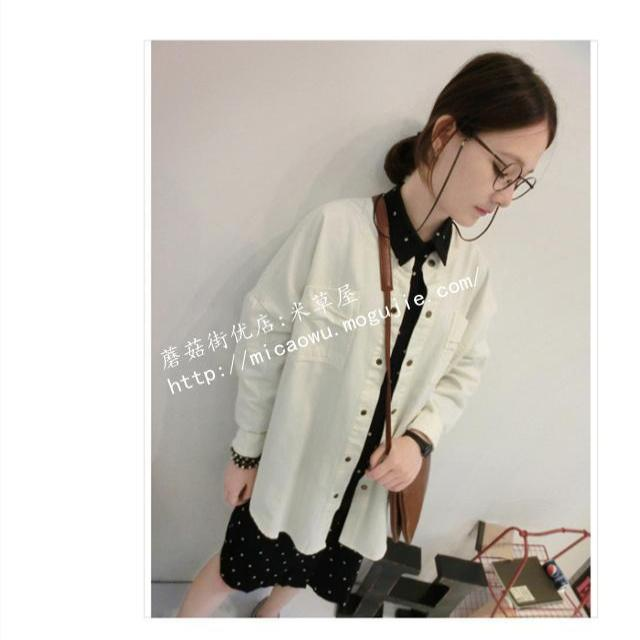long sleeve dress: (232, 191, 492, 604)
long sleeve outwear: (233, 199, 416, 548)
